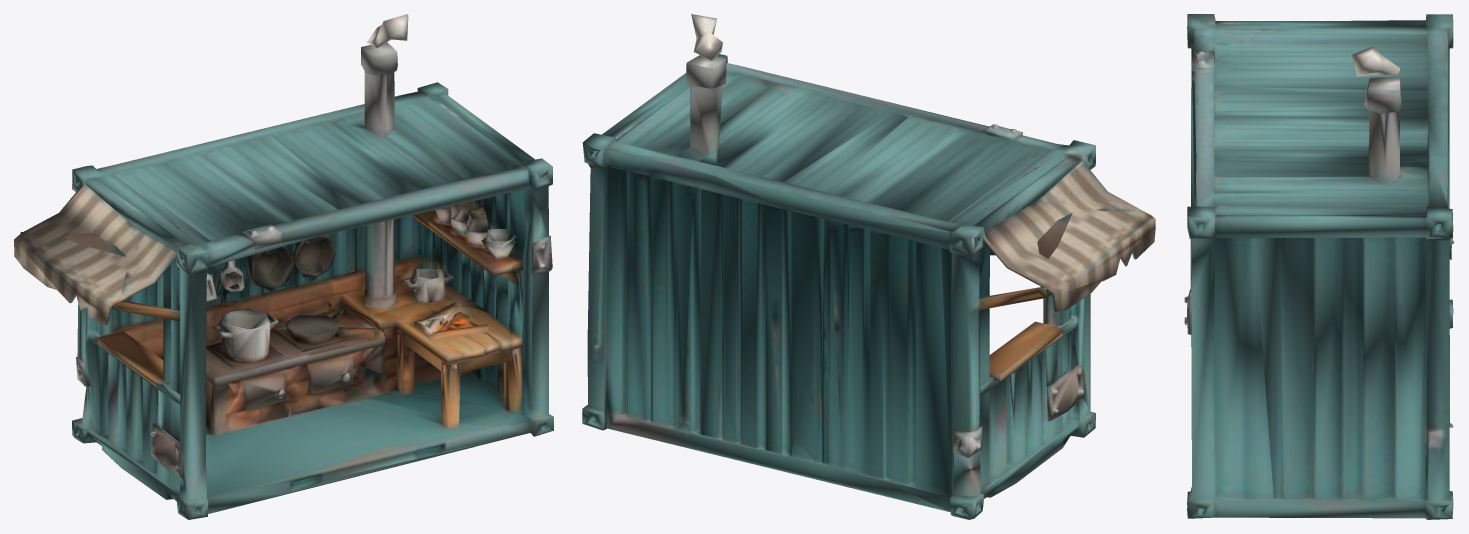
File: chufang-2.glb
3 renders of one model, left to right at view 1: azimuth 30°, elevation 25°; view 2: azimuth 150°, elevation 25°; view 3: azimuth 270°, elevation 25°, orthographic. The views are drawn at different scales.
Parts seen in each view (by area): view 1: node_0; view 2: node_0; view 3: node_0.
Boxes of the visible parts, bbox=[...] form: node_0: bbox=[14, 14, 553, 519]; node_0: bbox=[582, 14, 1155, 519]; node_0: bbox=[1184, 14, 1454, 519].
Size of the model in its own units: 0.8709 by 0.7197 by 0.4116.
1 material, 1 textured.
